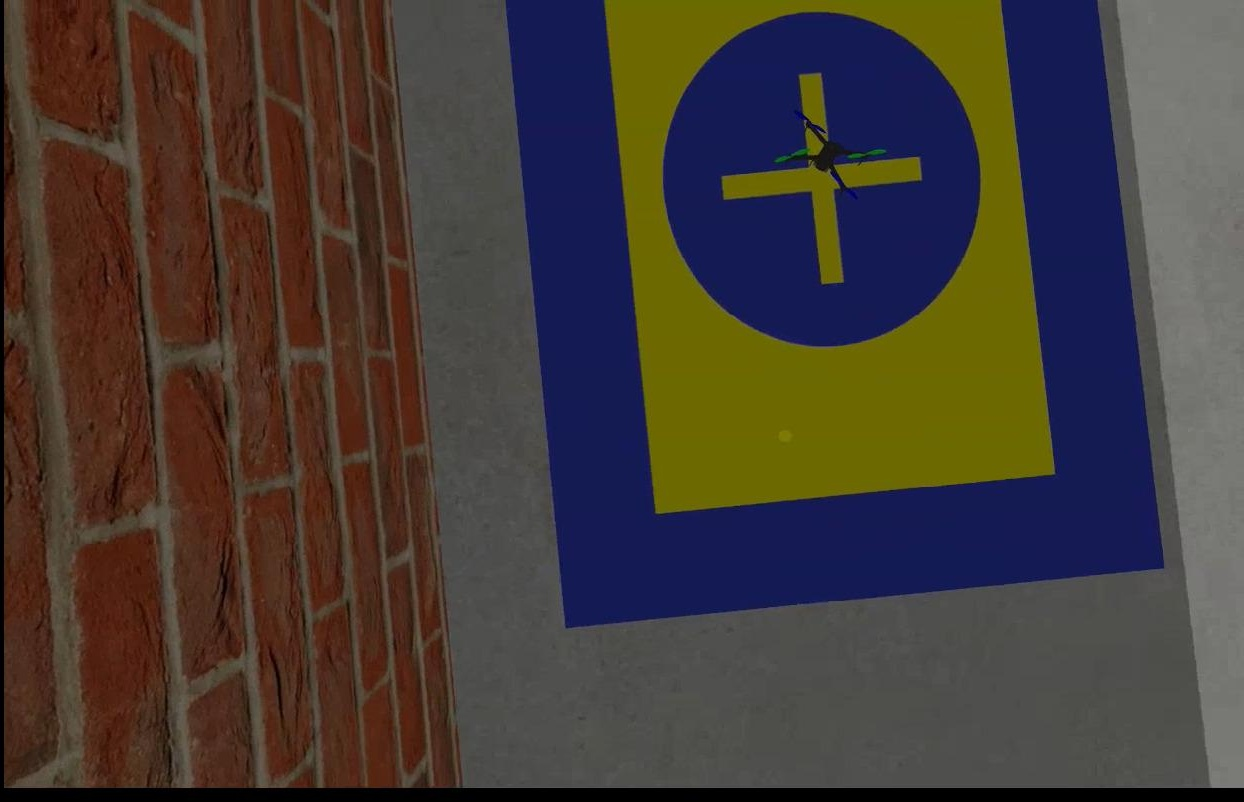large_base: (499, 1, 1167, 630)
